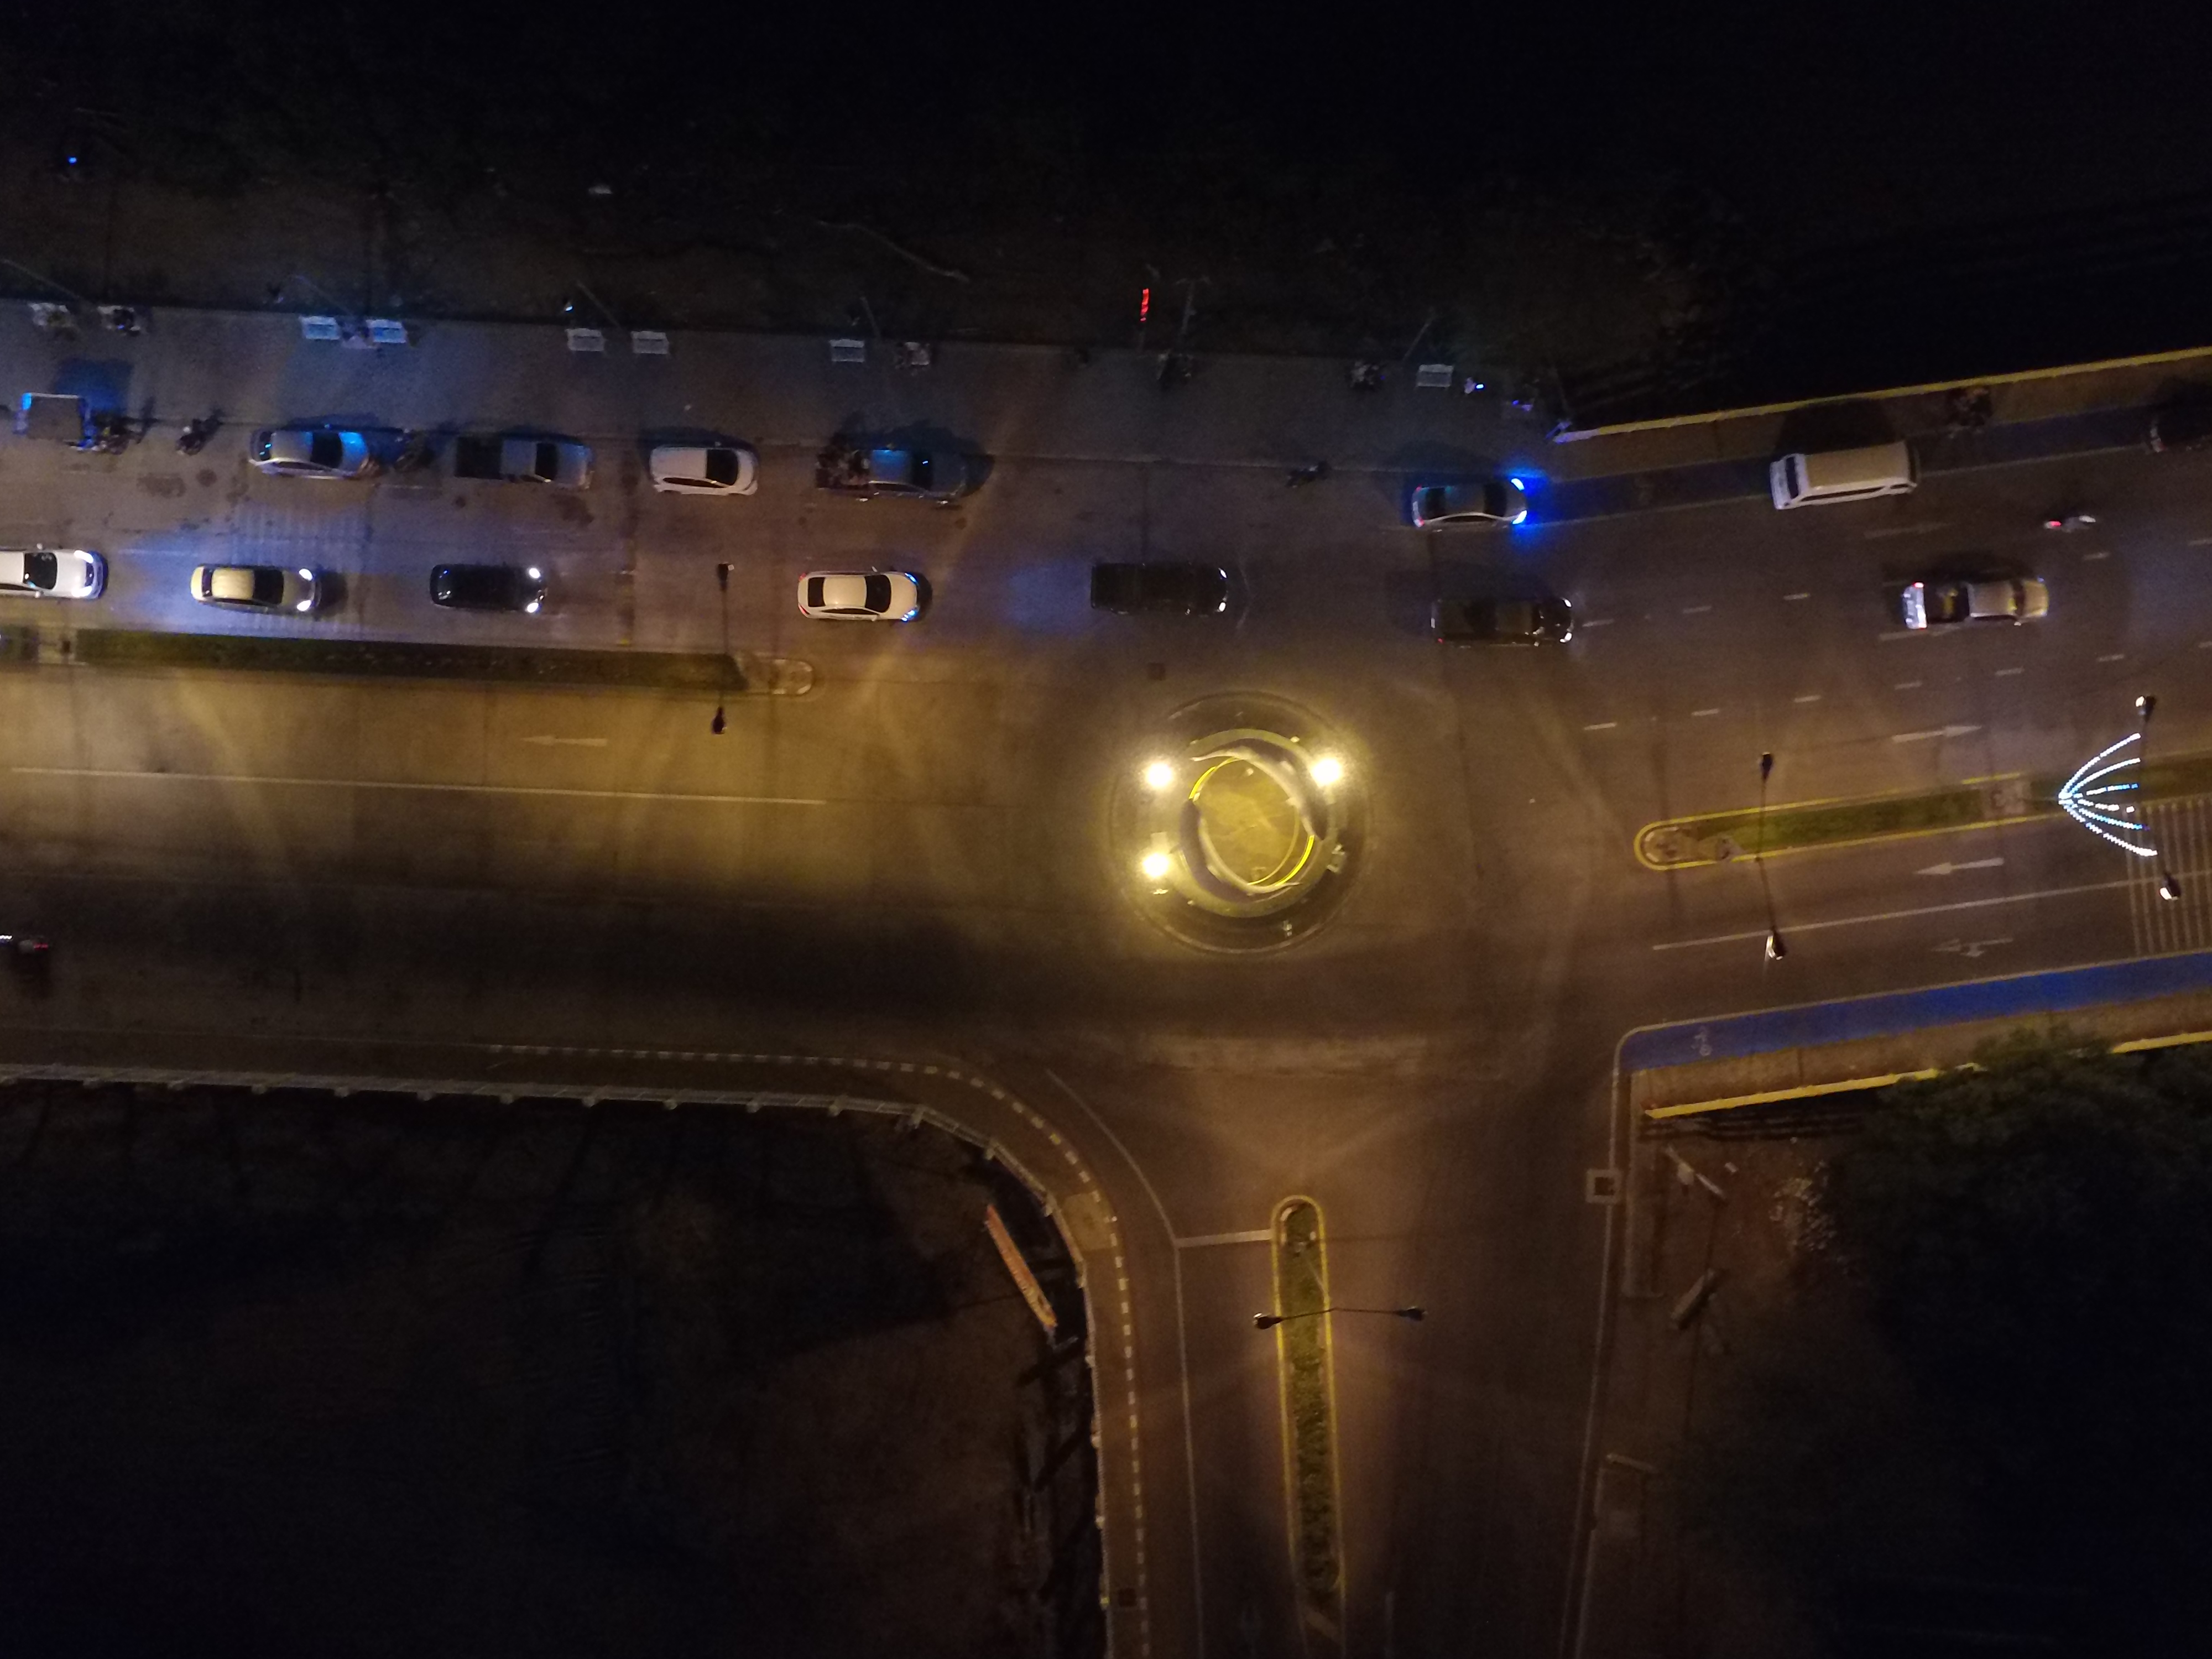car: (425, 537, 577, 636), (827, 430, 977, 530), (232, 406, 381, 505), (172, 540, 322, 640), (1778, 420, 1928, 519), (1413, 446, 1562, 545), (1420, 572, 1569, 671), (1900, 552, 2050, 652), (1080, 535, 1230, 633), (460, 420, 610, 518), (636, 418, 770, 523), (796, 540, 928, 645), (0, 535, 117, 613)
